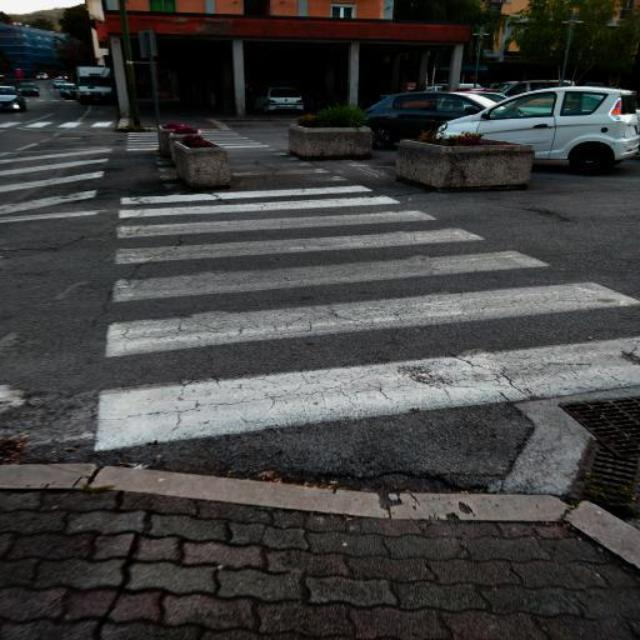sidewalk: (94, 186, 639, 452)
